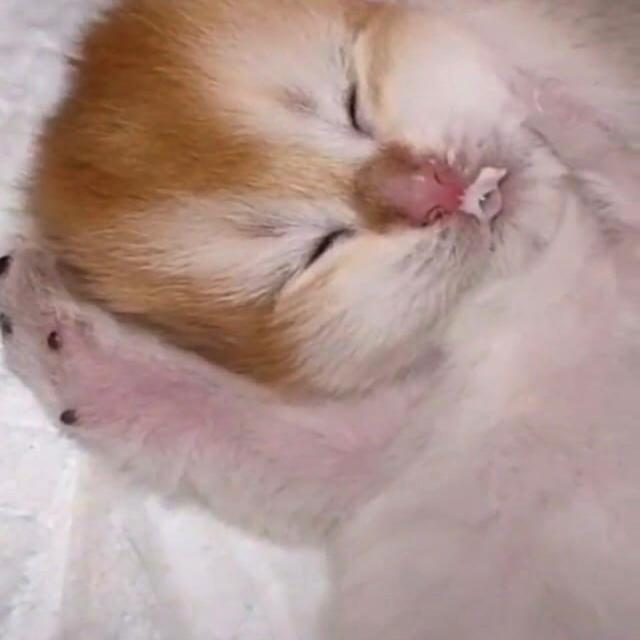da khoe manh: (415, 350, 639, 640)
